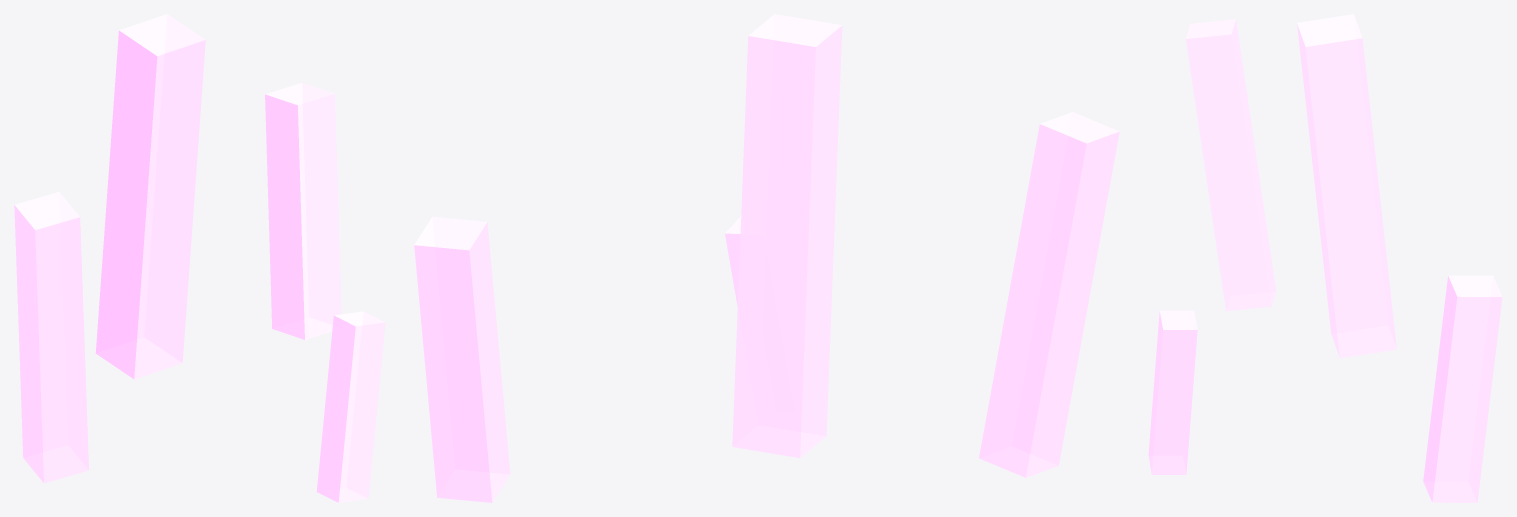
File: crystal_ground.glb
3 views of the same model, side by side, from view 1: azimuth 30°, elevation 25°; view 2: azimuth 150°, elevation 25°; view 3: azimuth 270°, elevation 25° (orthographic). The views are drawn at different scales.
Visible parts, largest first — view 1: Crystal3; view 2: Crystal3; view 3: Crystal3.
Boxes of the visible parts, x1=… form: Crystal3: x1=14, y1=14, x2=385, y2=502; Crystal3: x1=414, y1=14, x2=1119, y2=502; Crystal3: x1=1148, y1=14, x2=1502, y2=502.
Size of the model in its own units: 0.4121 by 0.3788 by 0.3054.
